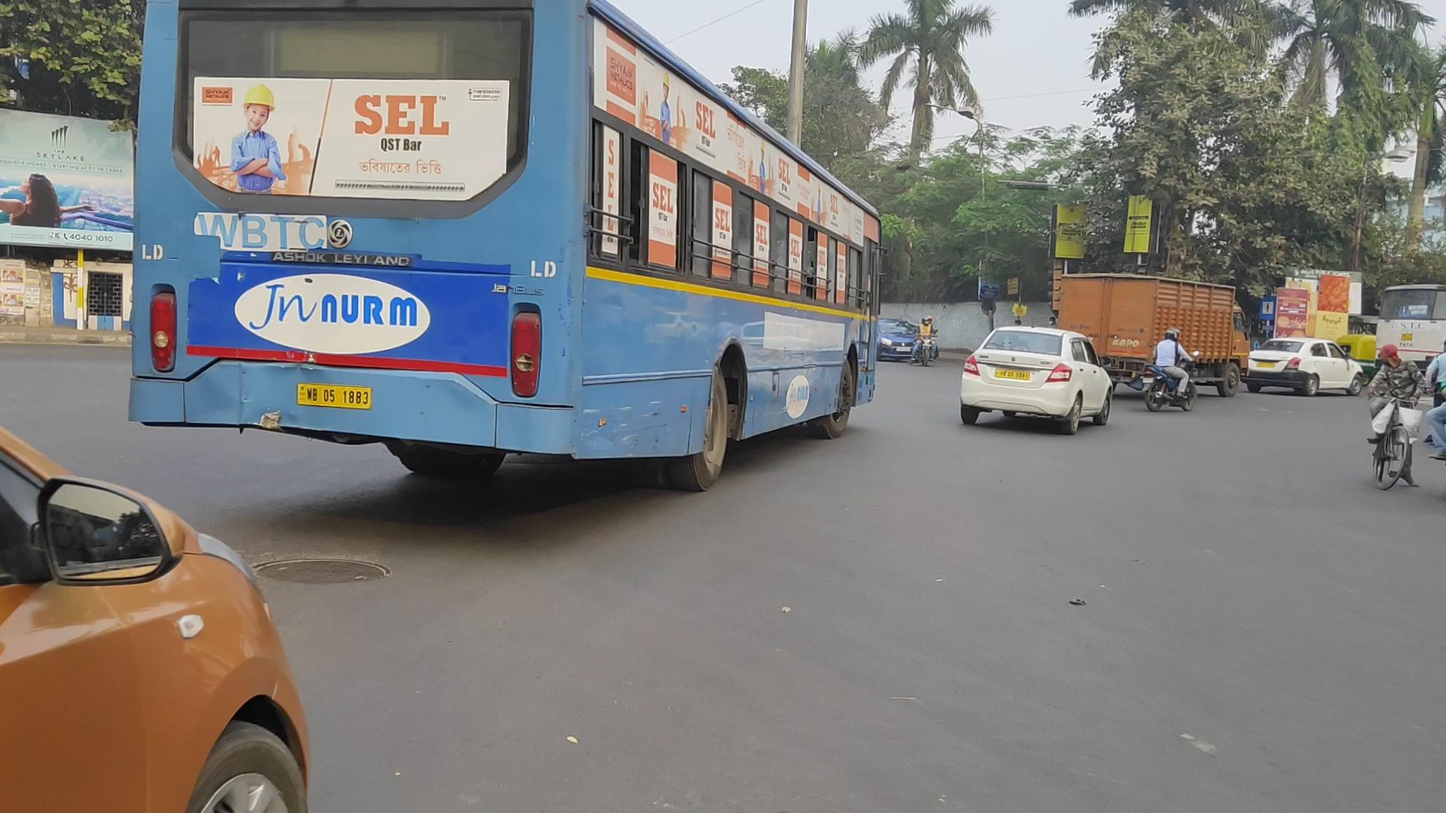Bus: (129, 4, 893, 493)
bike: (1367, 344, 1426, 492), (1142, 327, 1199, 413), (911, 315, 939, 366)
car: (959, 324, 1113, 435), (1240, 337, 1362, 397), (874, 317, 925, 363)
truck: (1057, 272, 1250, 397)
